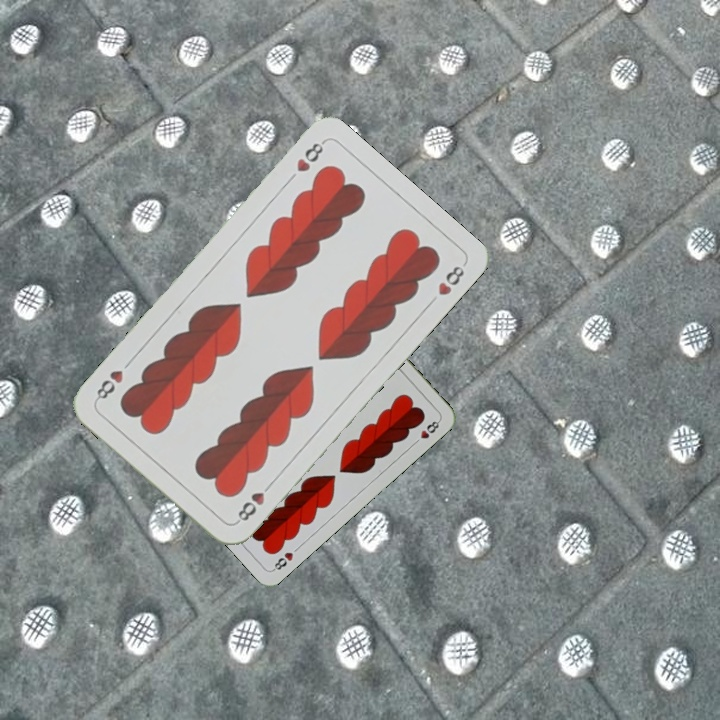H8: (232, 477, 276, 526), (292, 137, 327, 175), (269, 548, 296, 574)
